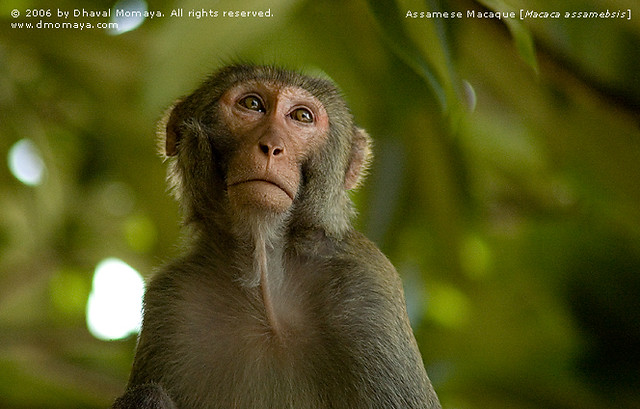monkey: (93, 58, 447, 407)
